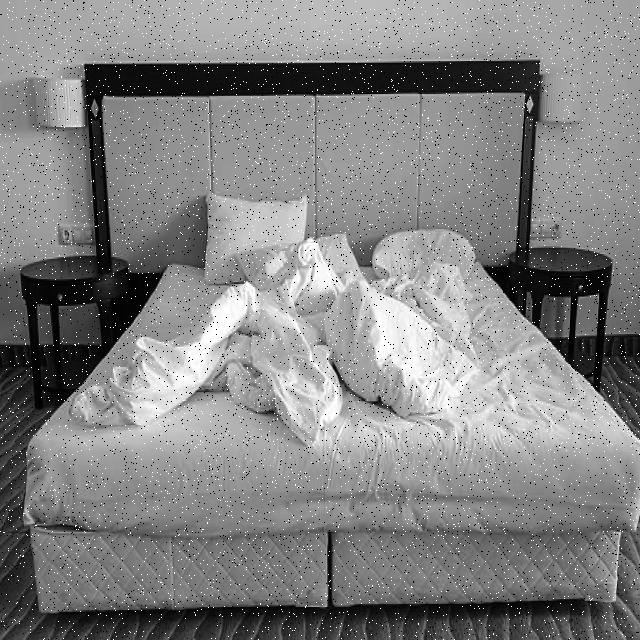bed: (22, 190, 640, 622)
